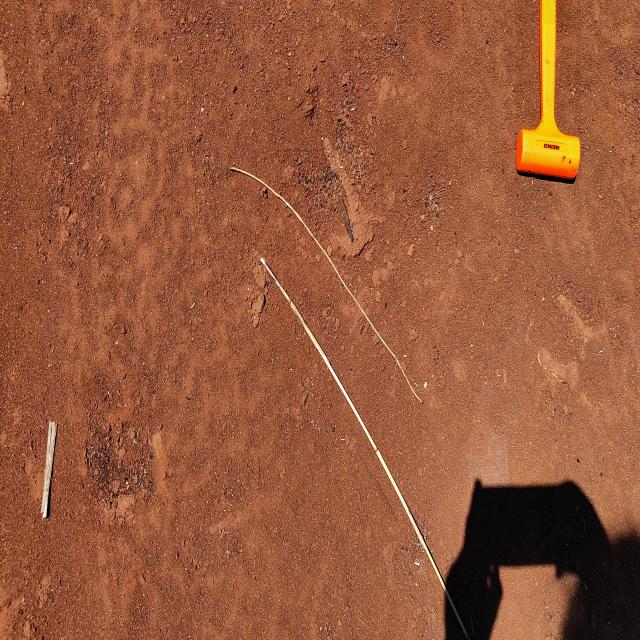Orange_hammer: (515, 0, 581, 182)
